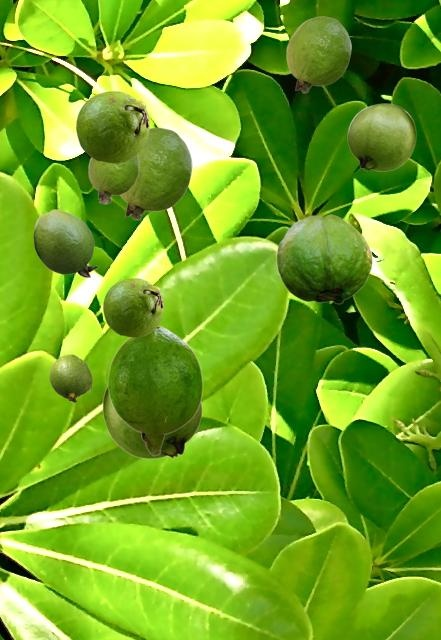guava: (107, 325, 202, 455), (276, 214, 371, 303), (102, 386, 201, 458), (120, 127, 191, 219), (76, 91, 148, 162), (286, 16, 350, 92), (347, 103, 415, 170), (33, 209, 97, 276), (103, 278, 162, 336), (88, 156, 138, 203), (49, 354, 91, 401)
